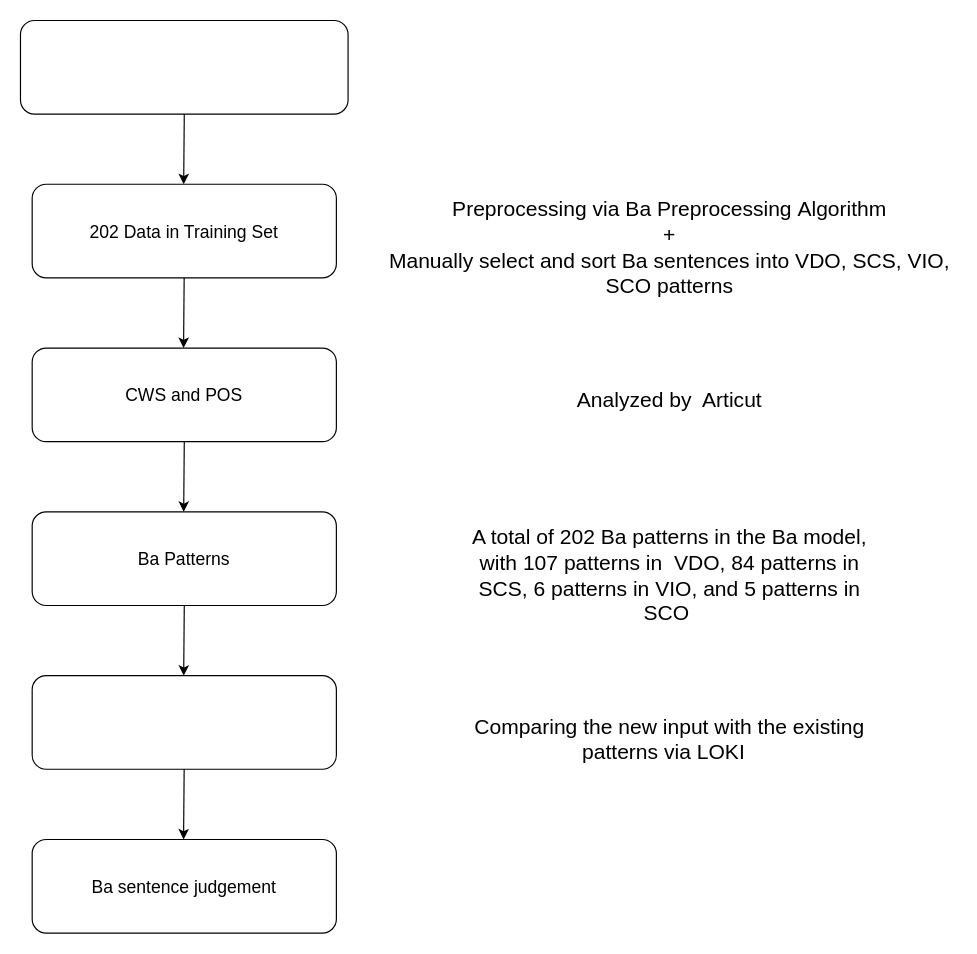
Some shapes in this 977 by 954 pixel diagram are drawn without their labels. Each missing label, with the centre of its shape:
"Comparing Four Patterns" goes at (x=183, y=722).
"Sinaca Corpus, Li (2017), Liu (1997)" goes at (x=183, y=66).
